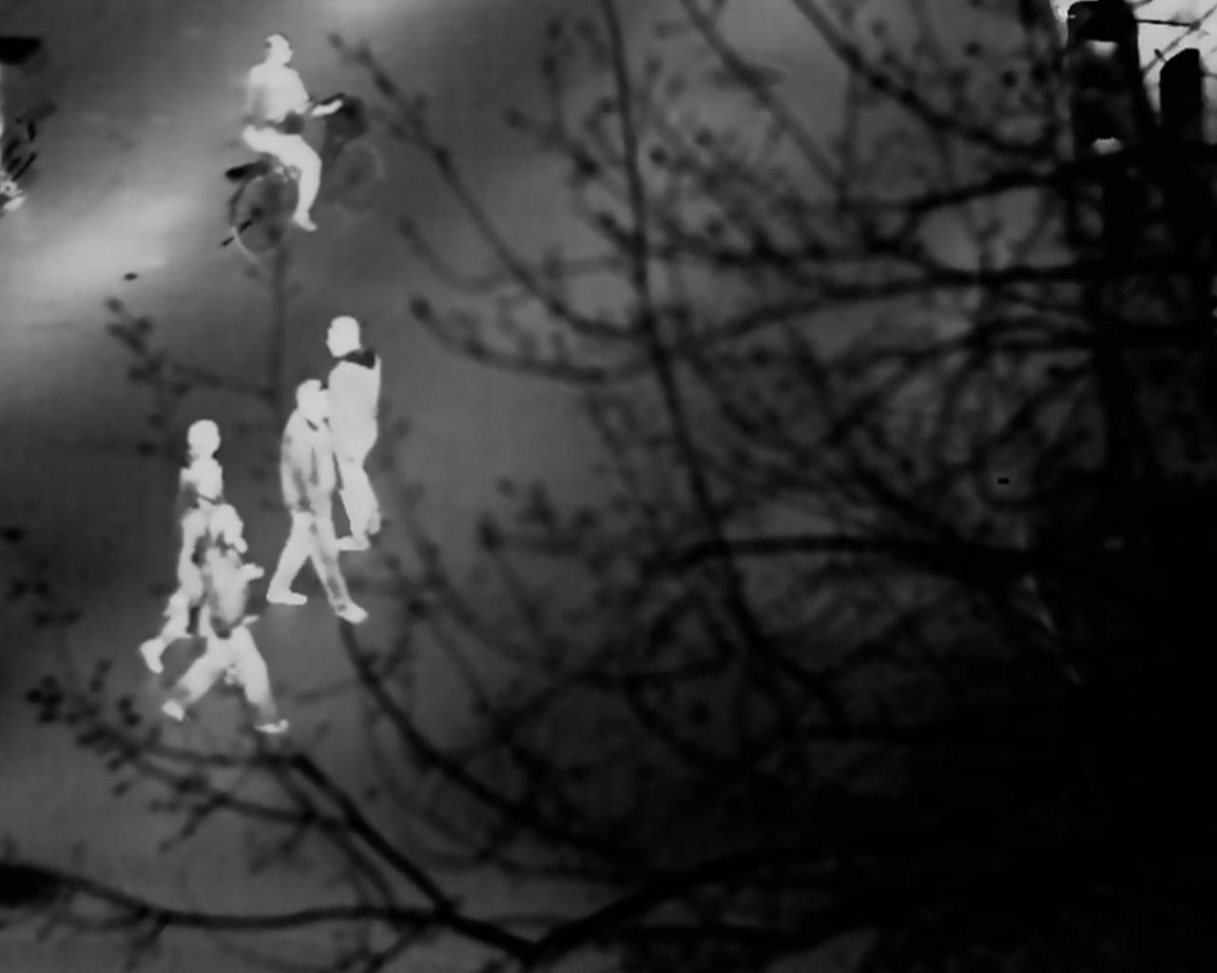person: (139, 413, 243, 654), (275, 388, 377, 627), (196, 512, 298, 720), (318, 315, 400, 534), (236, 31, 331, 214)
